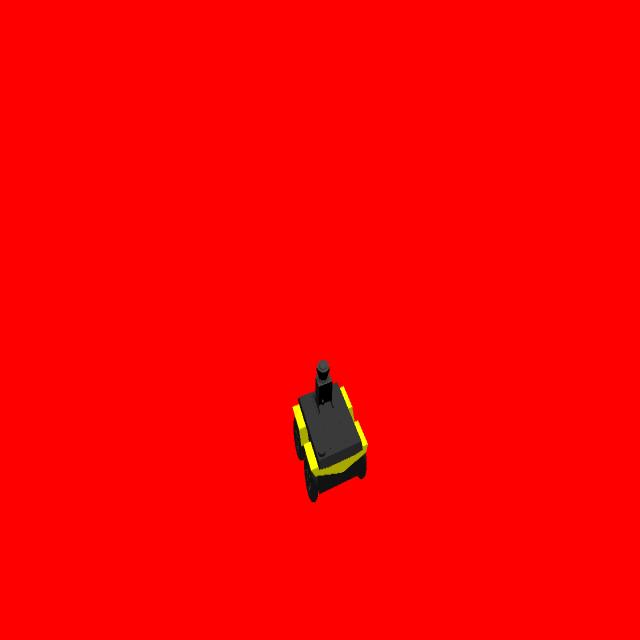jackal: (293, 359, 368, 507)
